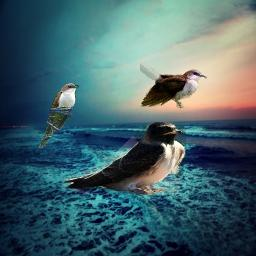Cuckoo: (140, 44, 207, 110), (38, 82, 79, 148)
Swallow: (61, 121, 186, 195)
